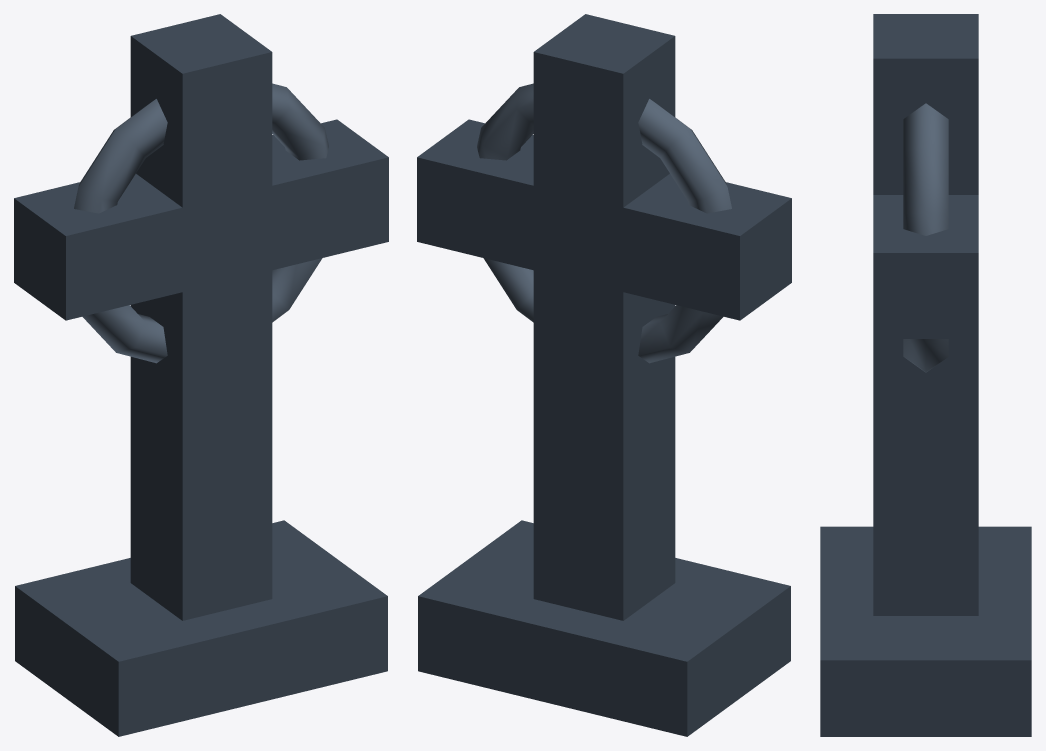
The model's file is grave_cross.glb.
The picture shows the model from 3 angles, left to right: view 1: azimuth 30°, elevation 25°; view 2: azimuth 150°, elevation 25°; view 3: azimuth 270°, elevation 25°; orthographic projection.
Size of the model in its own units: 0.72 by 1.32 by 0.4.
